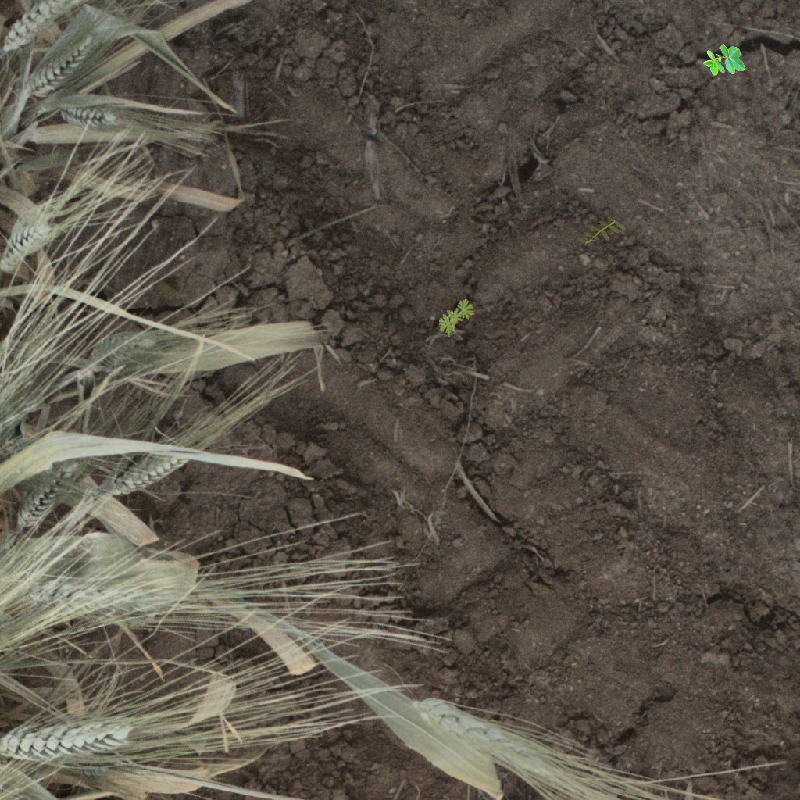spikelet: (410, 691, 575, 790), (18, 555, 201, 629), (1, 706, 143, 767), (19, 28, 103, 99), (75, 324, 169, 384), (10, 456, 83, 528), (1, 1, 94, 55), (103, 444, 193, 497), (1, 203, 62, 274), (46, 97, 124, 134)
weed: (698, 34, 753, 89), (439, 299, 476, 337), (581, 216, 626, 244)
